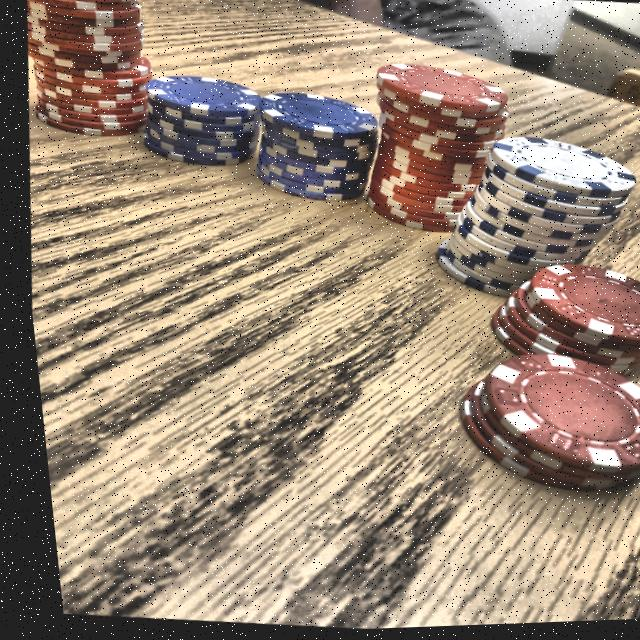Chip: (406, 121, 640, 319), (421, 323, 640, 531), (335, 39, 534, 263), (450, 238, 640, 397), (13, 0, 168, 161), (233, 77, 385, 216), (126, 60, 266, 180)
